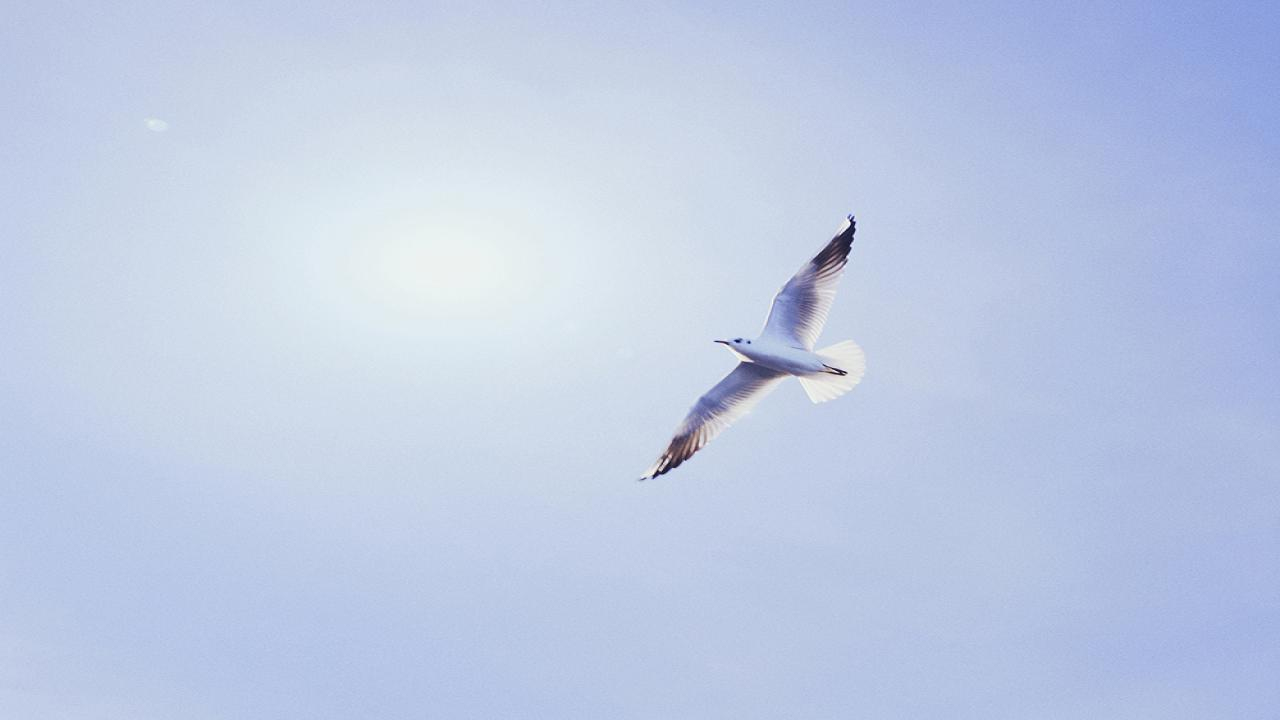Bird: (622, 205, 882, 491)
